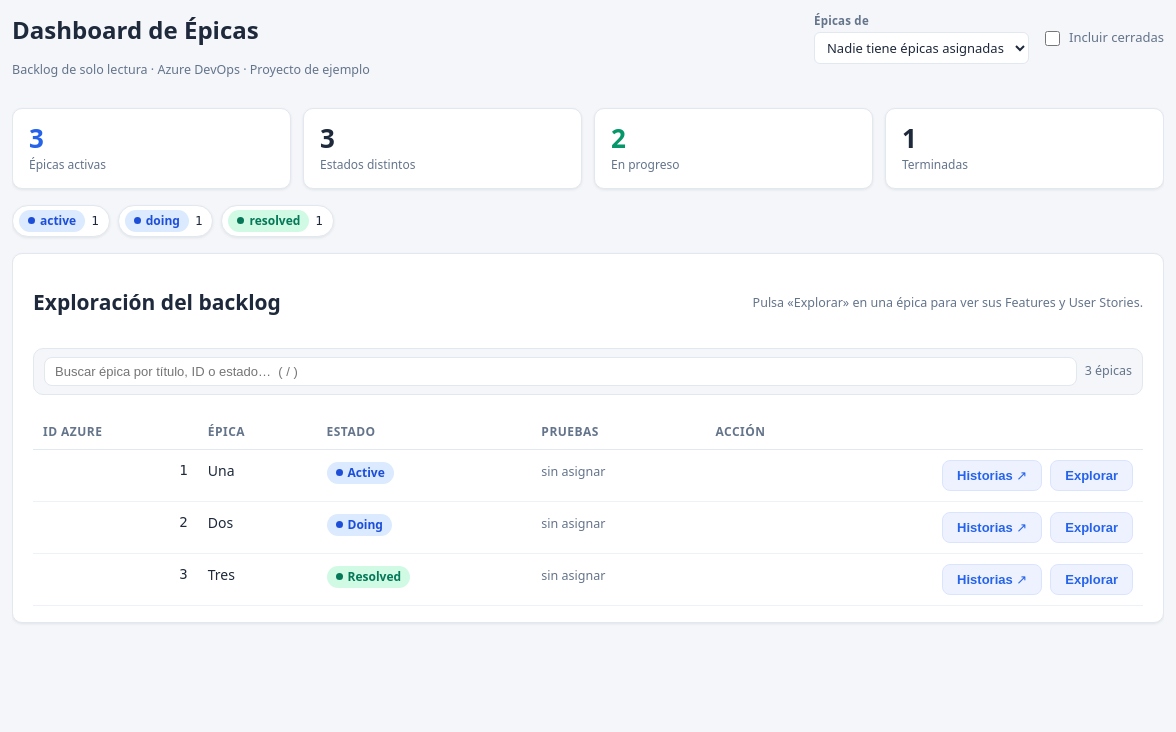
Test: Buscador de épicas › Escape limpia el campo
The width and height of the screenshot is (1176, 732).
expect the text "Una" is shown: met, box [198,450,316,502]
Type "dos" into the search field labelled "Buscar épica por título, ID o estado… ( / )" at [560, 372], box [44,357,1077,386]
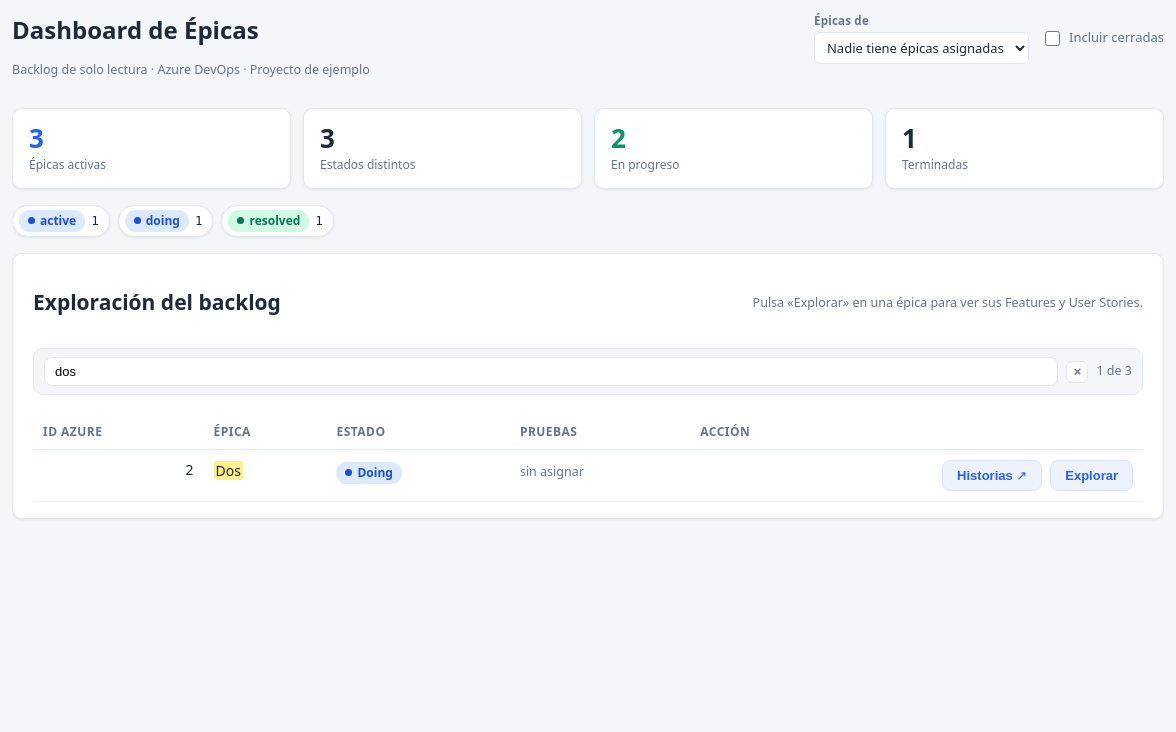
Press Escape in the search field named "Buscar épica", box [44,357,1058,386]
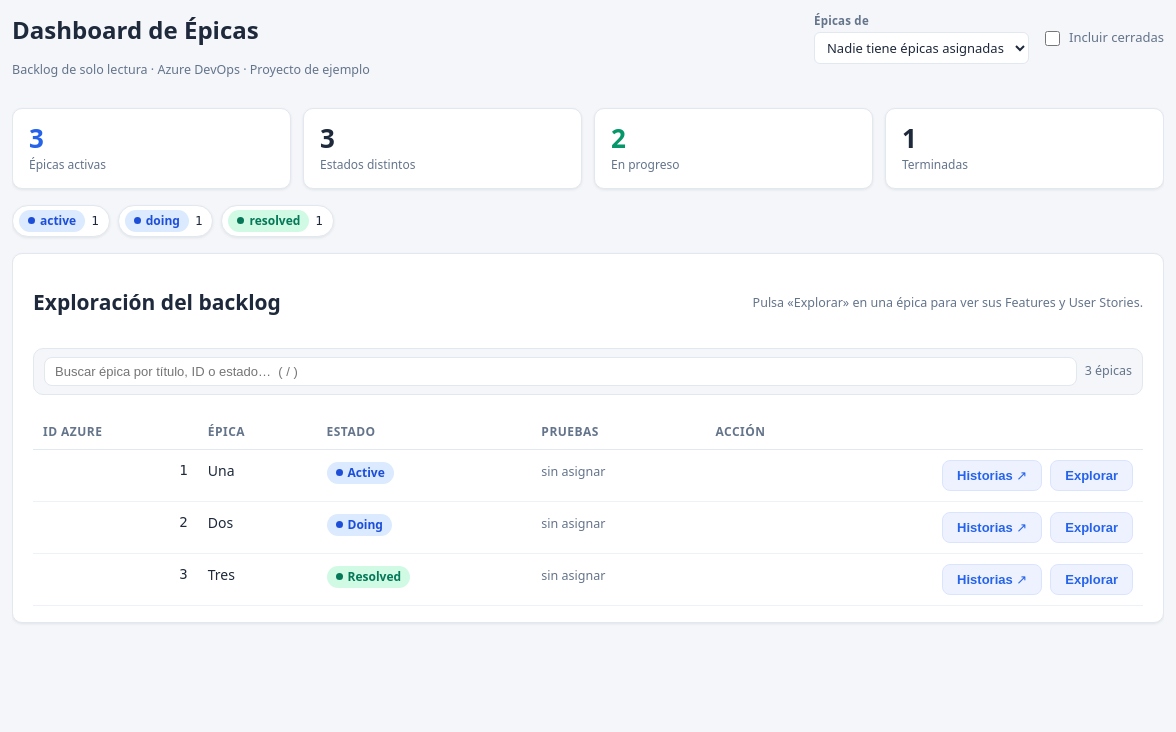
expect the search field labelled "Buscar épica por título, ID o estado… ( / )" is empty: met, box [44,357,1077,386]
expect the text "Una" is shown: met, box [198,450,316,502]
